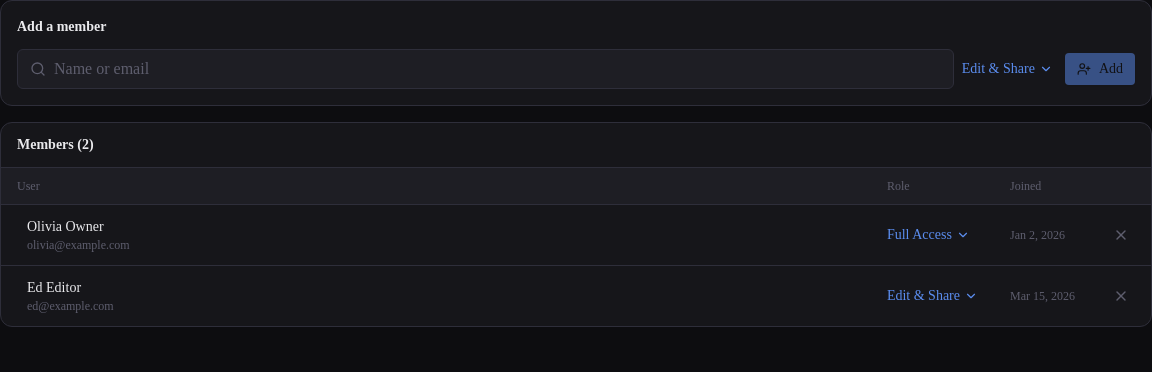
Scenario: adding a member › shows why a search failed
Check: the heading "Members (2)" is shown, box [1,123,1151,168]
In the field named "Find people by name or email": (497, 69) [54,57,941,81], type "ni"
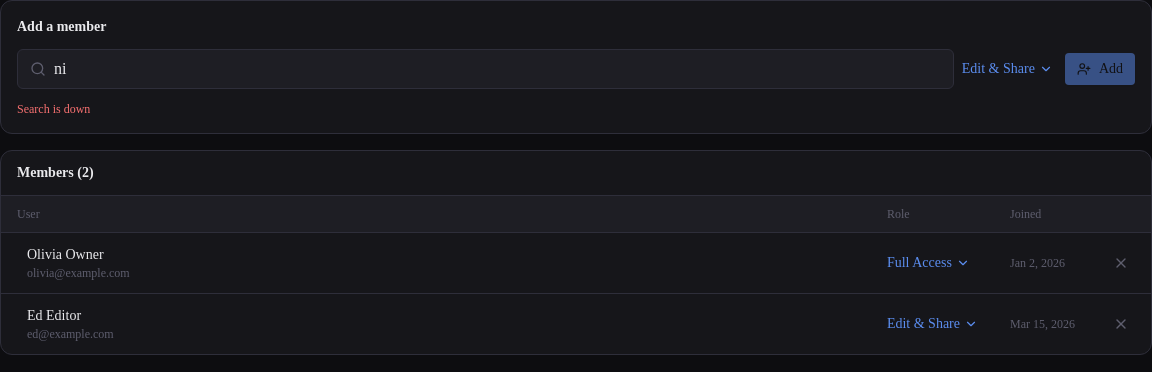
Check: the text "Search is down" is shown, box [17,102,90,116]
